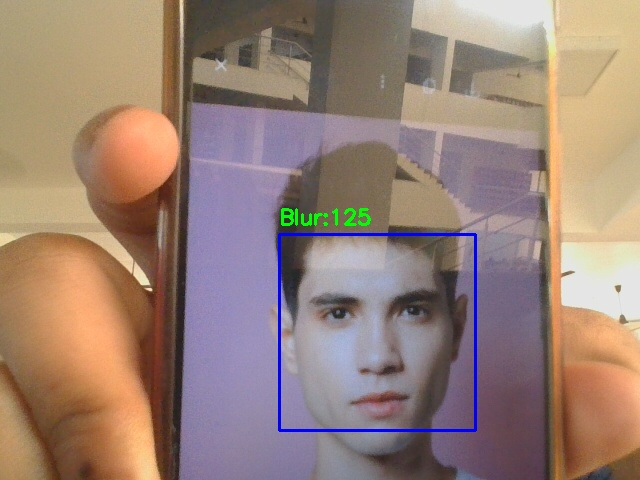fake: (279, 234, 475, 430)
